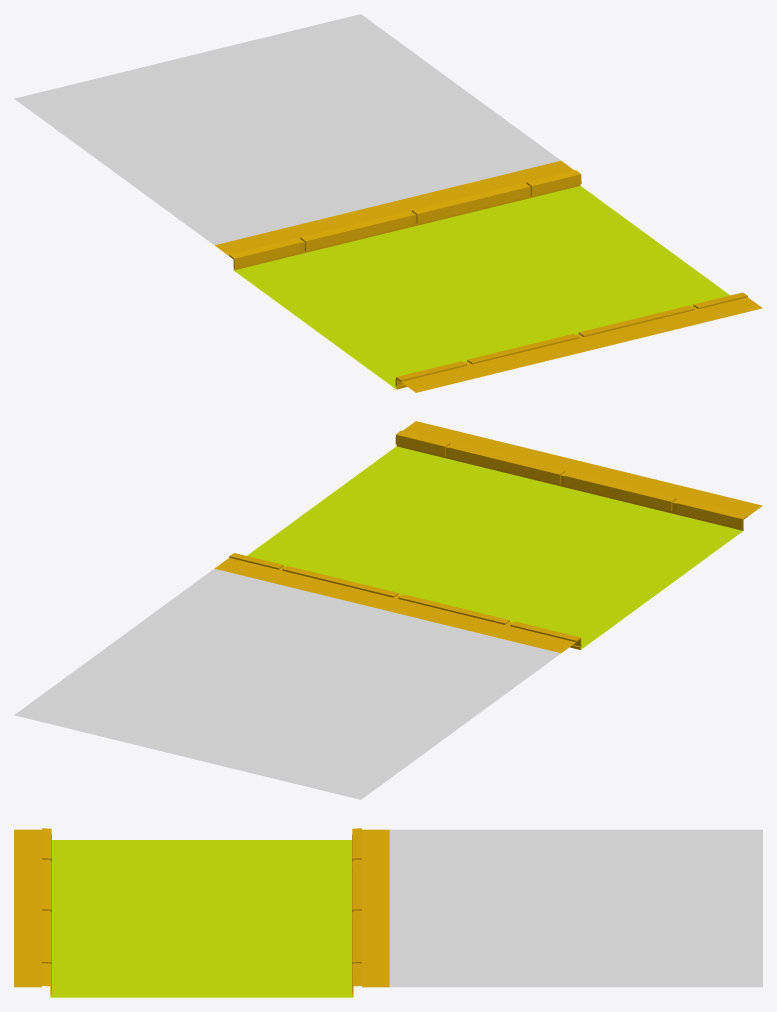
Rendered from pavement.fbx.
3 views of the same model, one above another, from view 1: azimuth 30°, elevation 25°; view 2: azimuth 150°, elevation 25°; view 3: azimuth 270°, elevation 25° (orthographic). The views are drawn at different scales.
Parts seen in each view (by area): view 1: Pavment, Road.001, Road; view 2: Pavment, Road.001, Road; view 3: Pavment, Road.001, Road.
Boxes of the visible parts, left/top/right/bottom form: Pavment: left=14, top=14, right=560, bottom=245; Road.001: left=234, top=186, right=729, bottom=389; Road: left=215, top=160, right=762, bottom=392; Pavment: left=14, top=568, right=560, bottom=799; Road.001: left=247, top=446, right=742, bottom=649; Road: left=215, top=421, right=762, bottom=653; Pavment: left=389, top=829, right=762, bottom=987; Road.001: left=50, top=840, right=353, bottom=997; Road: left=14, top=828, right=389, bottom=995.
Bounding box in the file's own units: 200 × 6.93 × 401.
